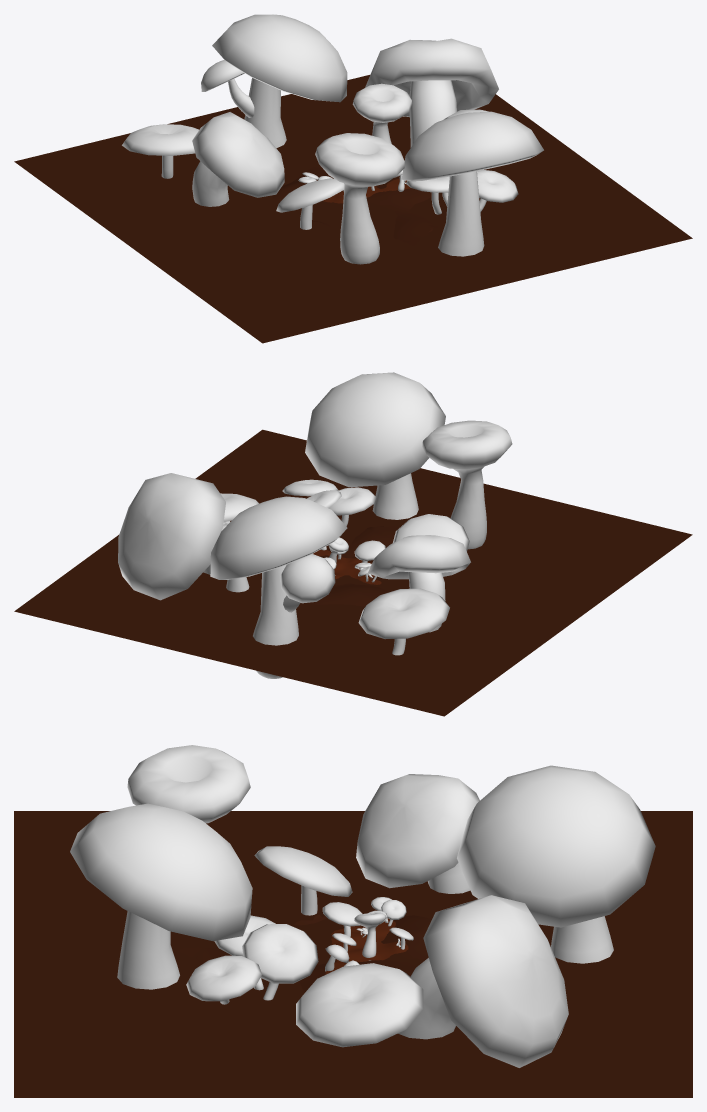
File: Forest.fbx
3 renders of one model, top to bottom at view 1: azimuth 30°, elevation 25°; view 2: azimuth 150°, elevation 25°; view 3: azimuth 270°, elevation 25°, orthographic. The views are drawn at different scales.
Parts seen in each view (by area): view 1: Plane, Mushroom.005, Mushroom.001, Mushroom.006, Mushroom.002, Mushroom.023, DistantGround, Mushroom.004, Mushroom.007, Mushroom.003, Mushroom.009, Mushroom.011; view 2: Plane, Mushroom.001, Mushroom.005, Mushroom.006, Mushroom.023, Mushroom.002, Mushroom.004, DistantGround, Mushroom.003, Mushroom.011, Ground, Mushroom.009 (+1 smaller); view 3: Plane, Mushroom.005, Mushroom.001, Mushroom.006, Mushroom.002, Mushroom.008, Mushroom.023, Mushroom.010, Mushroom.003, Mushroom.009, DistantGround, Ground (+3 smaller).
Part boxes in pixels (x1,y1,x2,y2): Plane: (14, 75, 692, 343); Mushroom.005: (201, 14, 347, 148); Mushroom.001: (401, 111, 543, 256); Mushroom.006: (365, 38, 498, 147); Mushroom.002: (192, 112, 284, 206); Mushroom.023: (315, 133, 404, 264); DistantGround: (272, 167, 438, 245); Mushroom.004: (122, 124, 198, 178); Mushroom.007: (352, 83, 412, 143); Mushroom.003: (276, 178, 344, 229); Mushroom.009: (477, 170, 518, 212); Mushroom.011: (405, 176, 449, 214); Plane: (14, 429, 692, 716); Mushroom.001: (305, 372, 445, 519); Mushroom.005: (210, 496, 347, 678); Mushroom.006: (118, 473, 226, 600); Mushroom.023: (422, 420, 512, 549); Mushroom.002: (367, 535, 470, 632); Mushroom.004: (358, 588, 449, 655); DistantGround: (306, 525, 400, 606); Mushroom.003: (393, 514, 469, 551); Mushroom.011: (328, 487, 376, 536); Ground: (313, 549, 381, 584); Mushroom.009: (282, 479, 338, 496); Plane: (14, 811, 692, 1097); Mushroom.005: (457, 765, 655, 963); Mushroom.001: (70, 803, 252, 989); Mushroom.006: (398, 895, 568, 1067); Mushroom.002: (356, 774, 479, 893); Mushroom.008: (296, 963, 423, 1047); Mushroom.023: (127, 745, 250, 823); Mushroom.010: (242, 924, 318, 1000); Mushroom.003: (254, 846, 352, 915); Mushroom.009: (186, 955, 262, 1004); DistantGround: (179, 914, 431, 992); Ground: (325, 918, 408, 974).
Size of what is drawn, in the model's own units: 72534 by 26879 by 72534.
